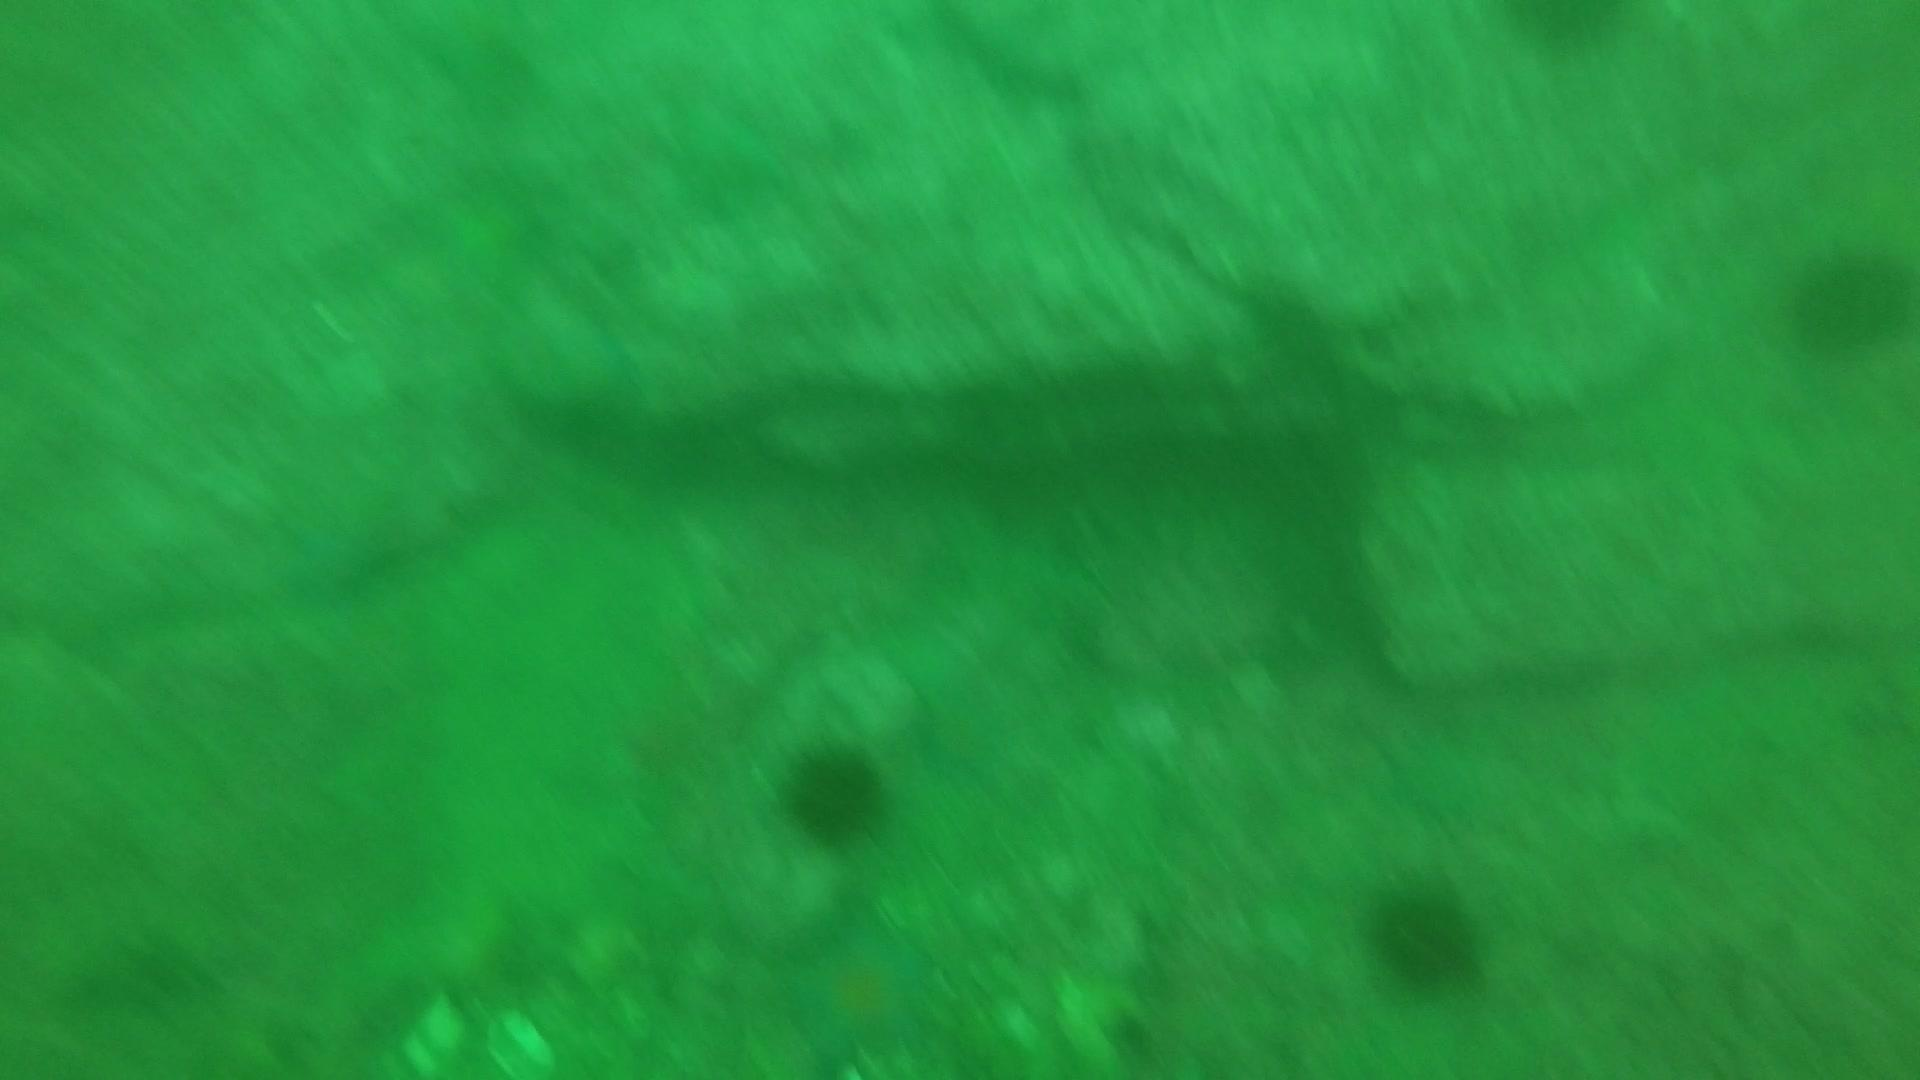echinus: (1778, 236, 1917, 363), (1360, 870, 1490, 1000), (775, 735, 894, 851), (1489, 1, 1652, 69)
starfish: (781, 914, 945, 1076)
